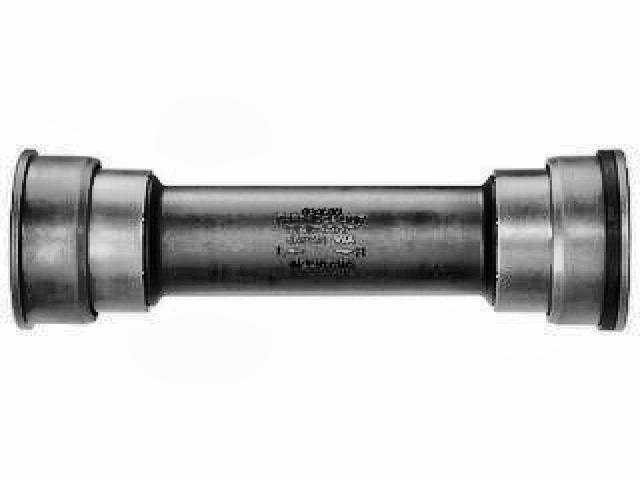bottom_bracket: (9, 144, 634, 336)
